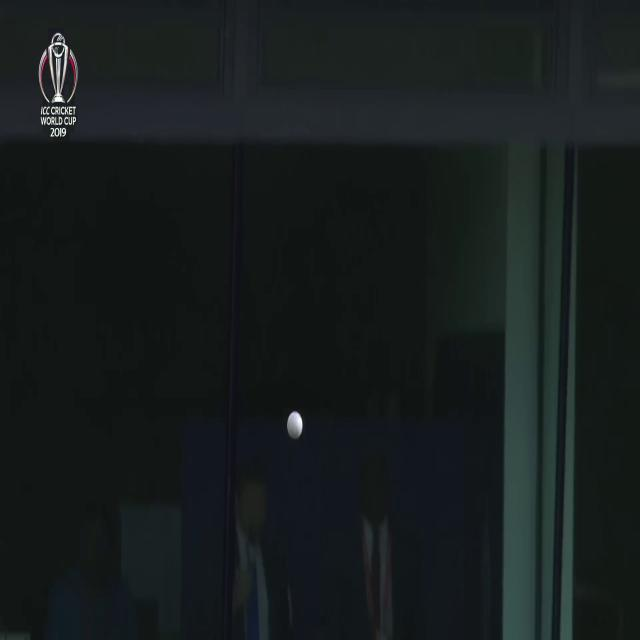ball: (282, 406, 309, 447)
